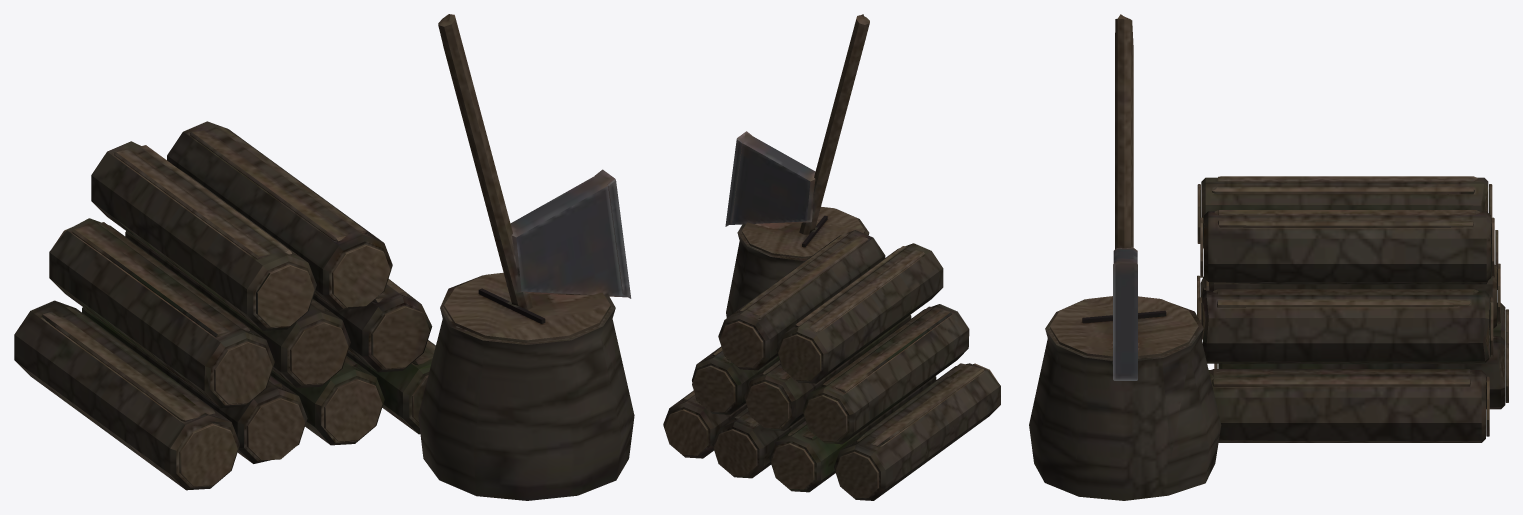
Rendered from woodpile.glb.
The picture shows the model from 3 angles, left to right: view 1: azimuth 30°, elevation 25°; view 2: azimuth 150°, elevation 25°; view 3: azimuth 270°, elevation 25°; orthographic projection. The views are drawn at different scales.
Visible parts, largest first — view 1: woodpile; view 2: woodpile; view 3: woodpile.
Boxes of the visible parts, bbox=[...] form: woodpile: bbox=[14, 14, 634, 500]; woodpile: bbox=[663, 14, 1000, 500]; woodpile: bbox=[1029, 14, 1508, 500].
Bounding box in the file's own units: 0.7958 × 0.8617 × 0.9031.
Materials: 1 (1 with a texture image).
